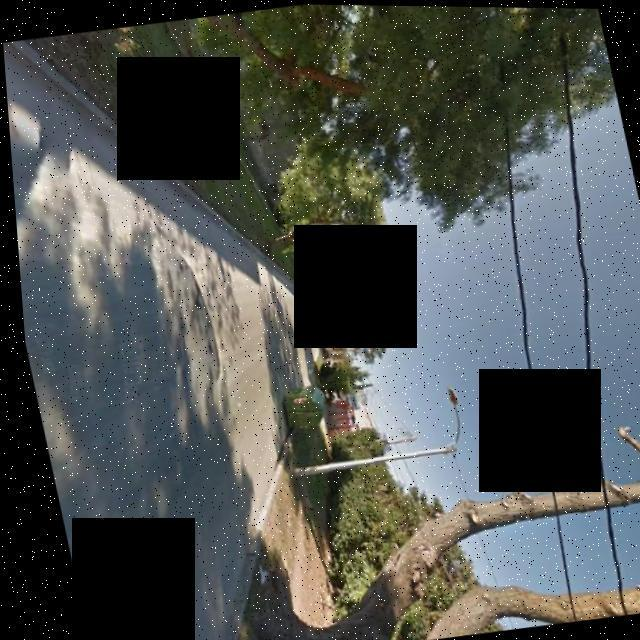bin: (261, 376, 332, 436)
